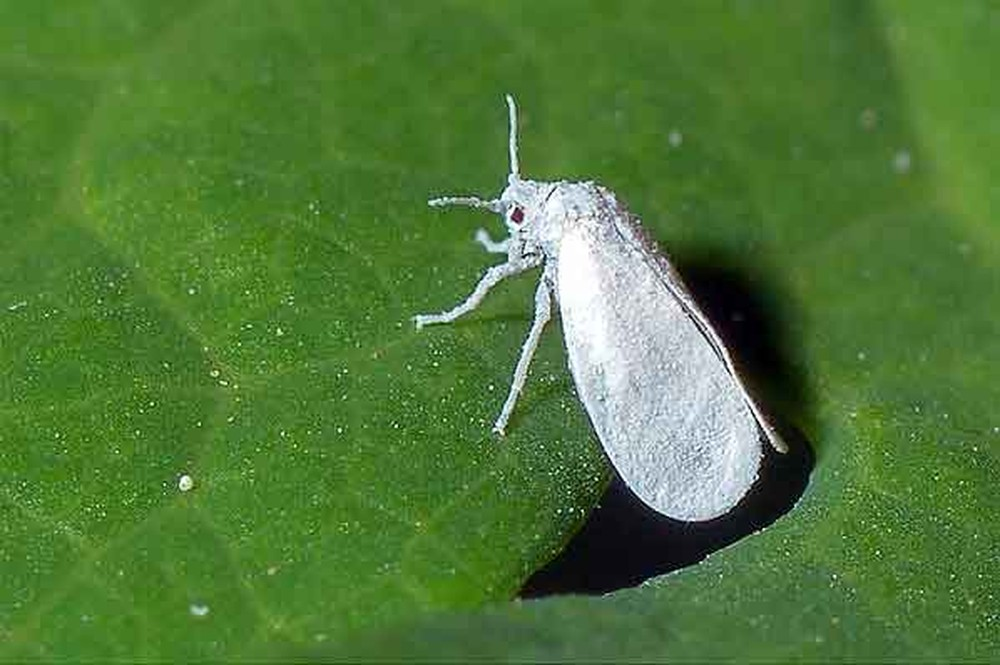Mosca Blanca: (406, 102, 830, 540)
